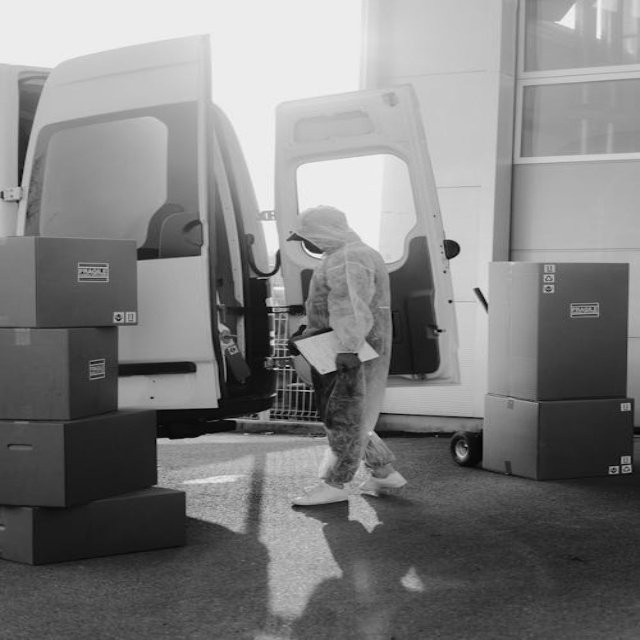Mascara: (300, 239, 324, 256)
